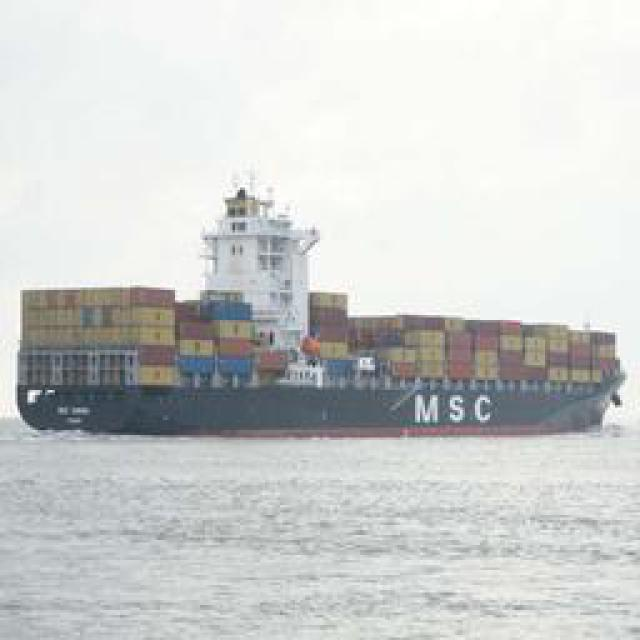Ship: (15, 191, 630, 437)
